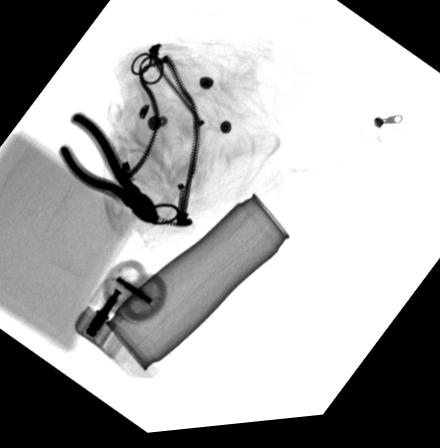Pliers: (56, 112, 158, 228)
